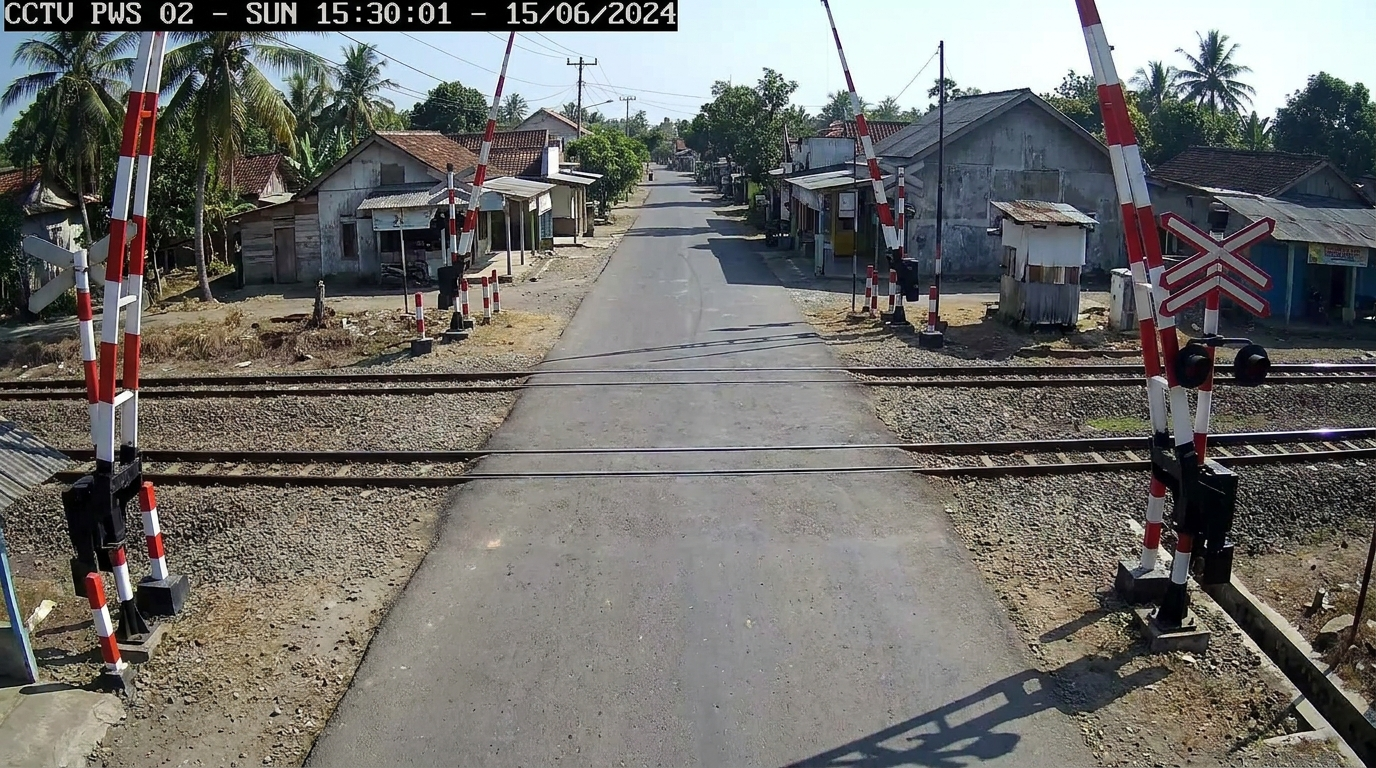safe: (1077, 0, 1161, 380), (94, 32, 164, 473), (1076, 0, 1163, 287), (821, 0, 899, 250), (451, 32, 515, 262), (1137, 291, 1176, 362), (1141, 480, 1164, 566), (121, 394, 137, 449), (1150, 399, 1166, 434)
